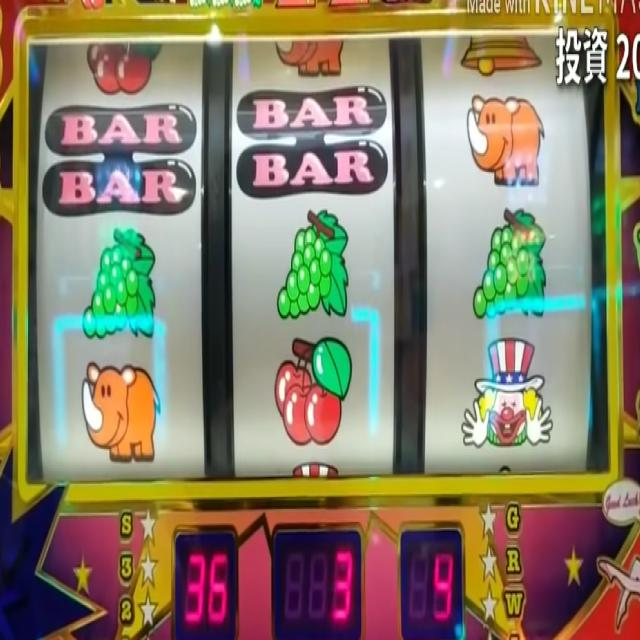bar: (237, 85, 388, 199), (42, 107, 196, 216)
bell: (459, 38, 543, 78)
cherry: (274, 336, 353, 444), (85, 40, 163, 94), (78, 0, 107, 12)
clown: (461, 333, 553, 450)
display: (24, 40, 610, 479)
elephant: (80, 359, 162, 464), (465, 90, 545, 190), (276, 36, 346, 78)
grape: (81, 224, 157, 342), (276, 210, 350, 326), (472, 206, 547, 319), (233, 0, 262, 10), (186, 0, 209, 11), (212, 0, 229, 8)
z: (274, 0, 316, 11), (328, 0, 368, 11)
